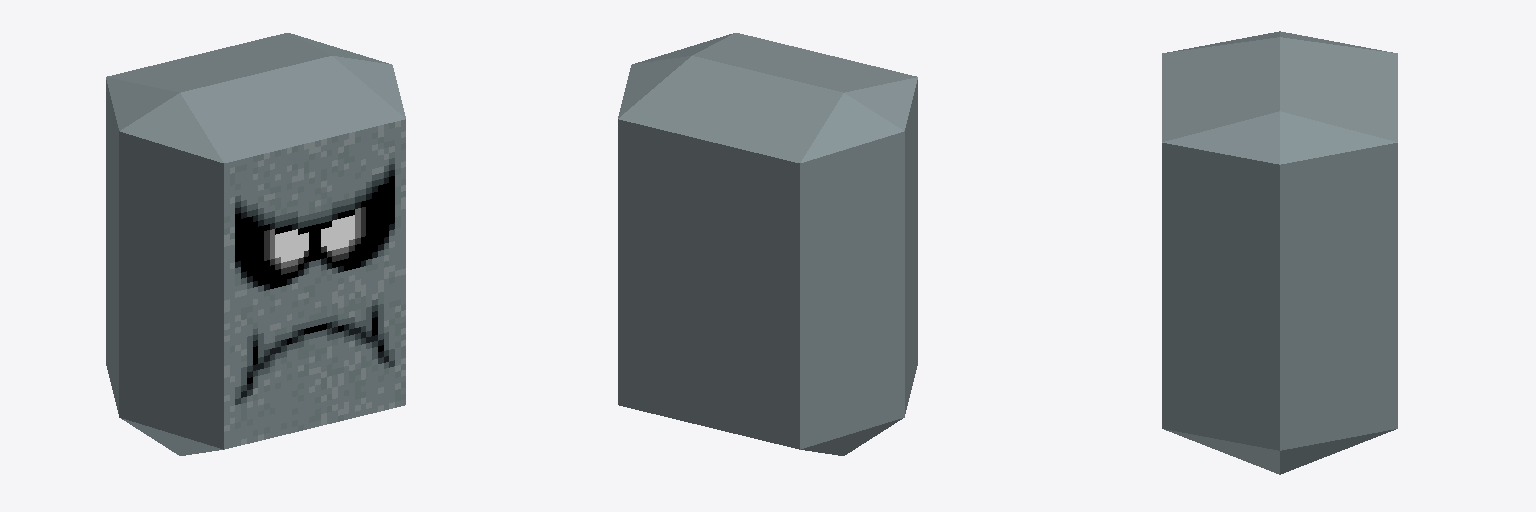
3 views of the same model, side by side, from view 1: azimuth 30°, elevation 25°; view 2: azimuth 150°, elevation 25°; view 3: azimuth 270°, elevation 25° (orthographic).
Parts seen in each view (by area): view 1: Mesh1 Model; view 2: Mesh1 Model; view 3: Mesh1 Model.
Boxes of the visible parts, x1=… form: Mesh1 Model: x1=106, y1=33, x2=405, y2=455; Mesh1 Model: x1=618, y1=33, x2=917, y2=455; Mesh1 Model: x1=1162, y1=31, x2=1397, y2=474.
Size of the model in its own units: 36 by 45.75 by 27.
3 materials, 1 textured.